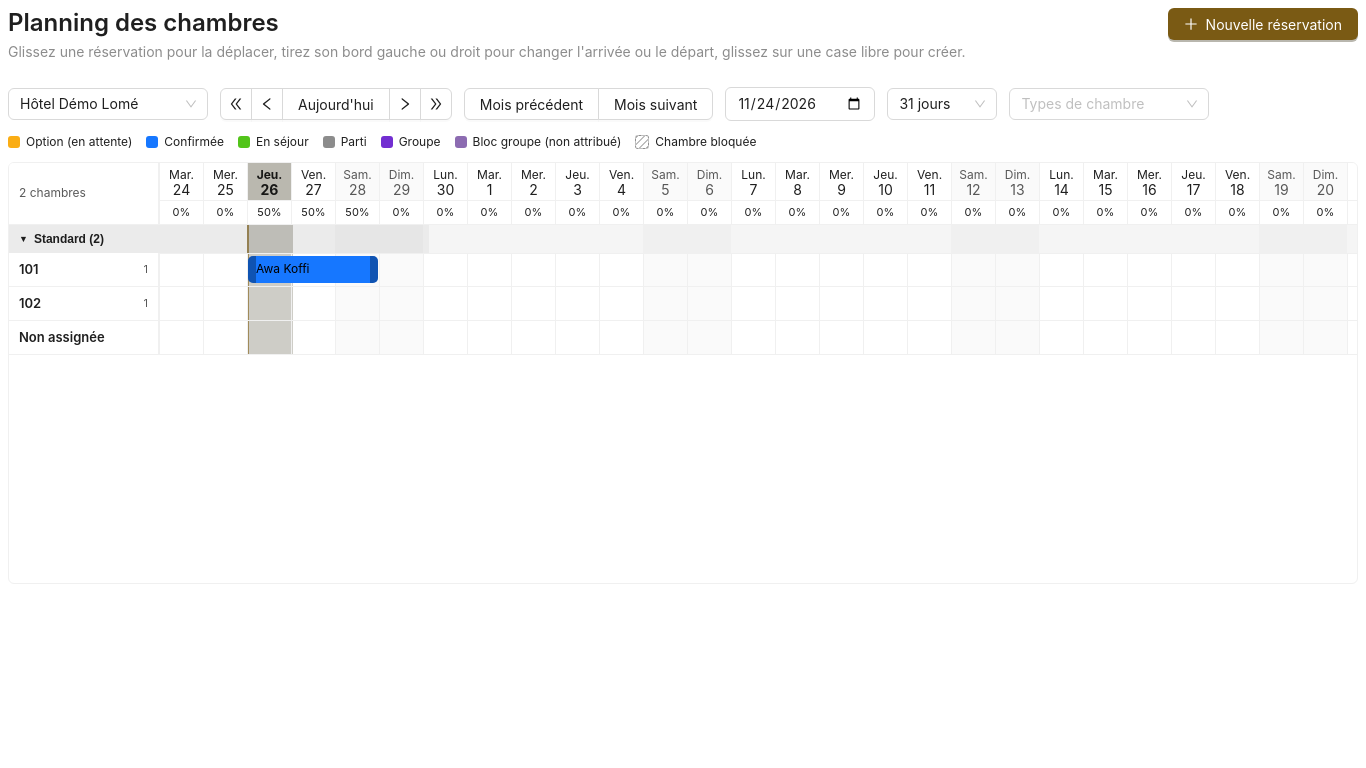
Test: PlanningPage › rolls a refused left-edge resize back (409)
The image size is (1366, 768).
Step 1. Press the mouse on the element named "Modifier la date d'arrivée" → (252, 269), box [248,256,256,283]
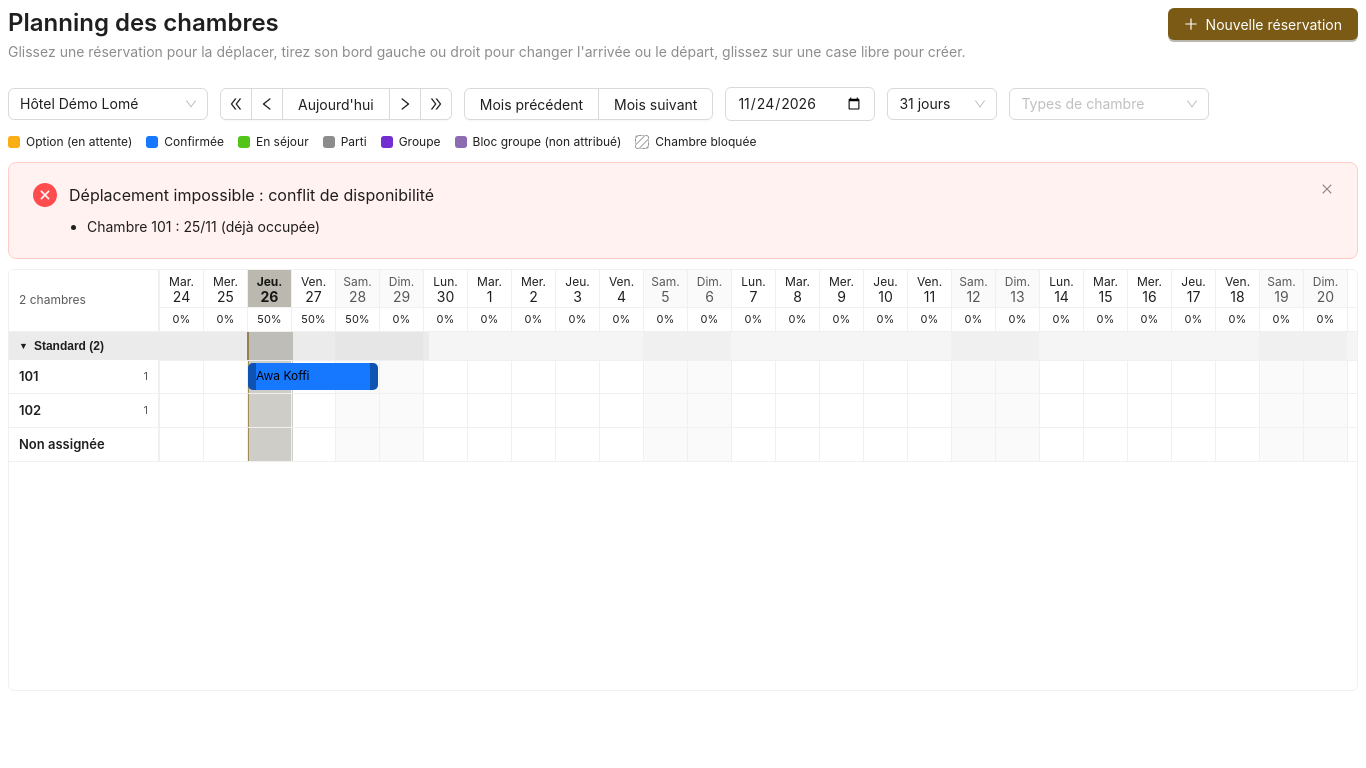
Expected: the text "Déplacement impossible : conflit de disponibilité" is shown, [69,185,434,205]
